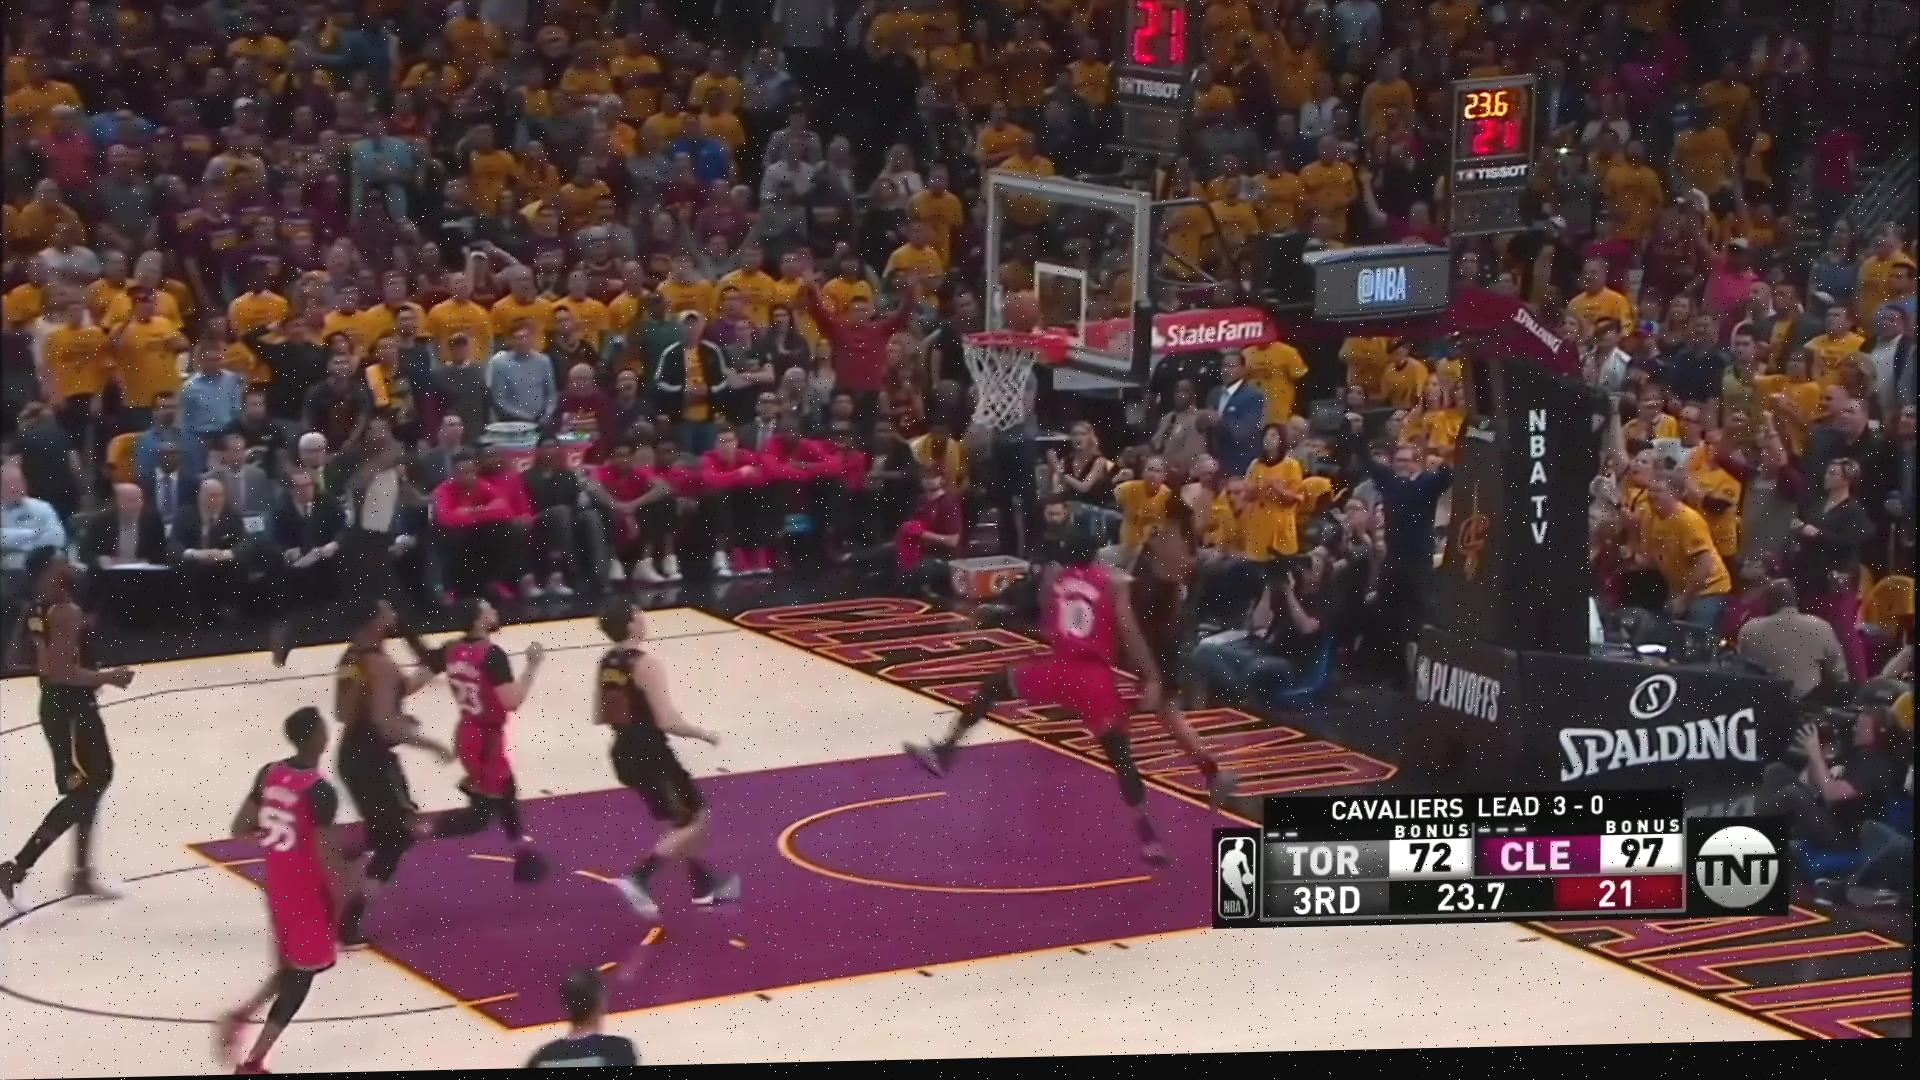foul: (944, 462, 1237, 837)
